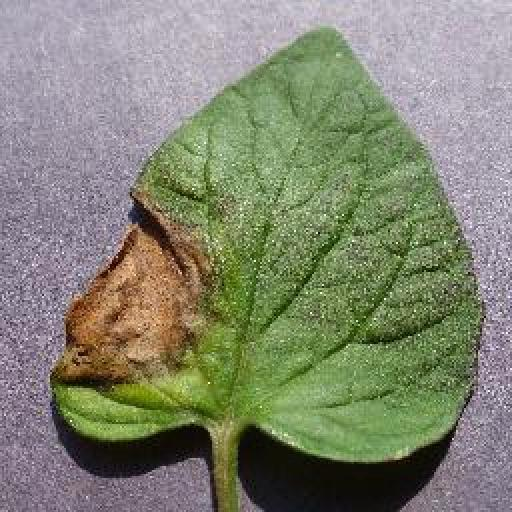disease_tomato: (54, 22, 488, 466)
